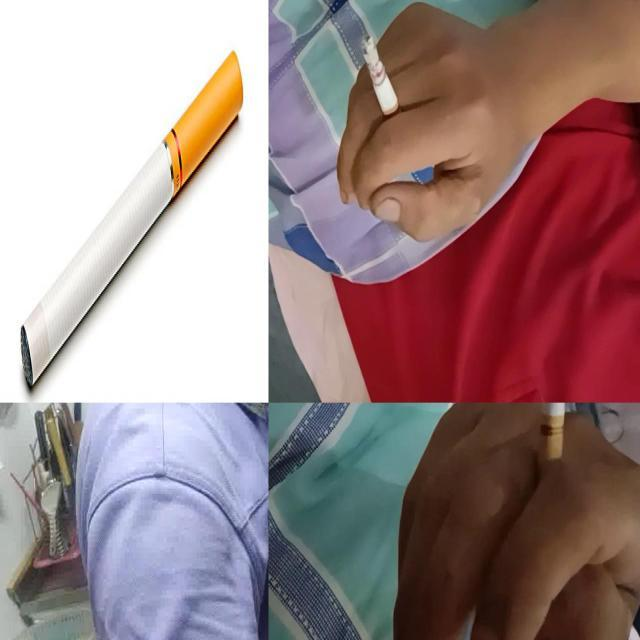smoking: (19, 48, 244, 391), (534, 402, 575, 534), (362, 35, 403, 140)
